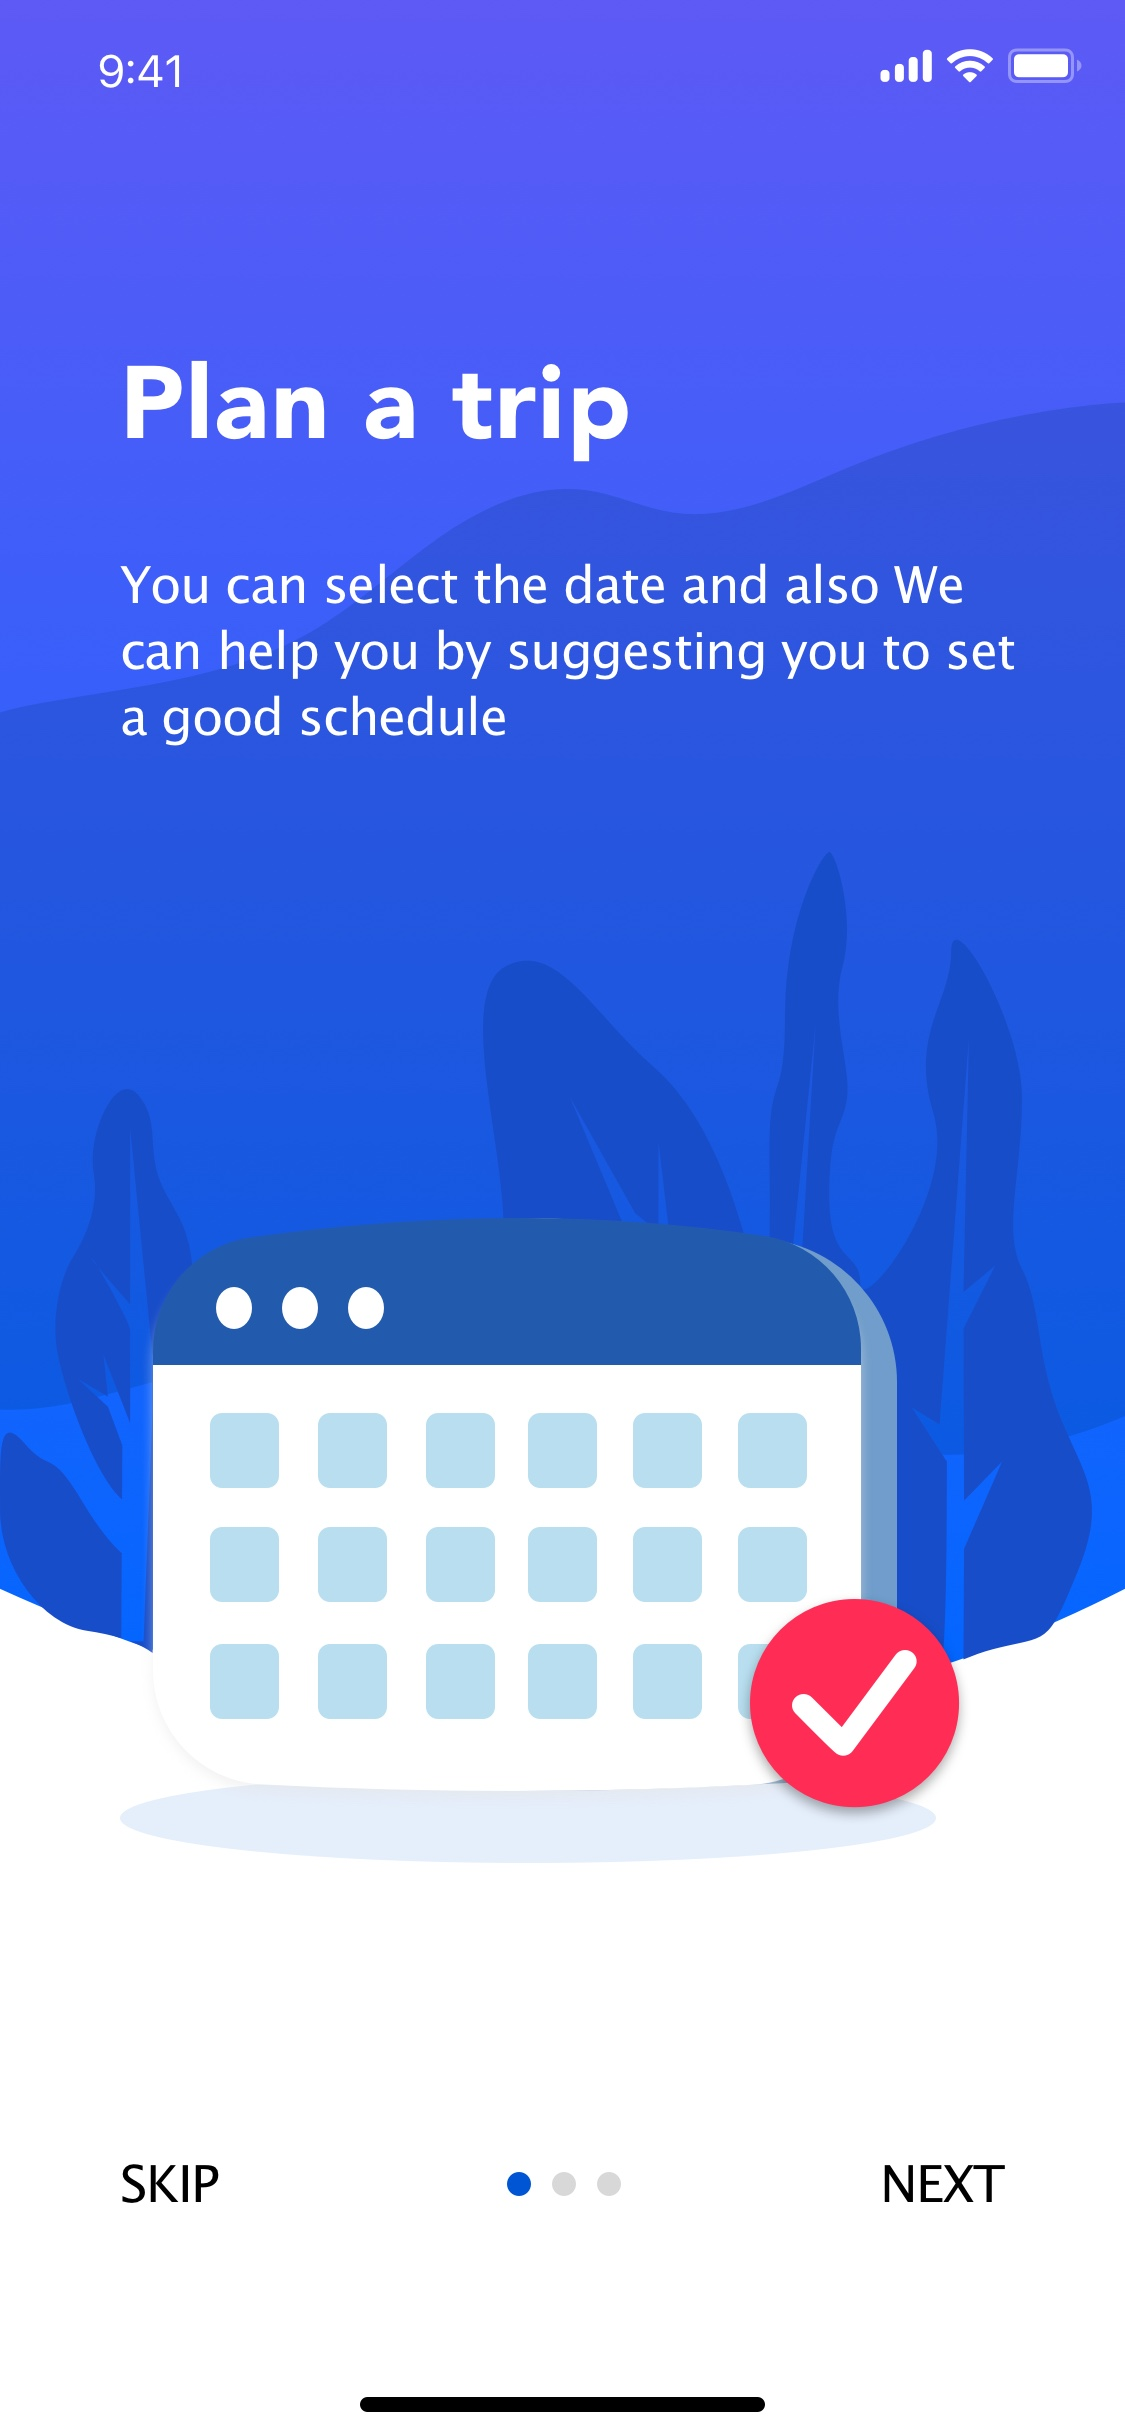Image: (2, 848, 1095, 1866)
PageIndicator: (507, 2170, 623, 2198)
Text: (120, 561, 1016, 749), (126, 359, 631, 465), (883, 2163, 1008, 2205), (120, 2163, 221, 2205)
UpperTaskBar: (98, 47, 1083, 92)
